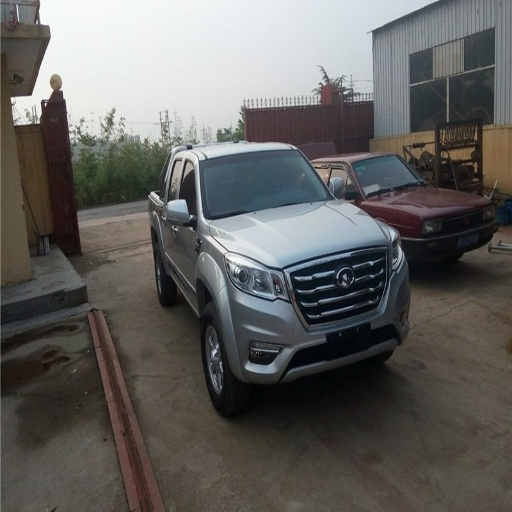front_bumper: (219, 243, 410, 383)
front_right_door: (169, 153, 199, 285)
front_right_light: (228, 255, 287, 299)
hood: (216, 200, 393, 267)
